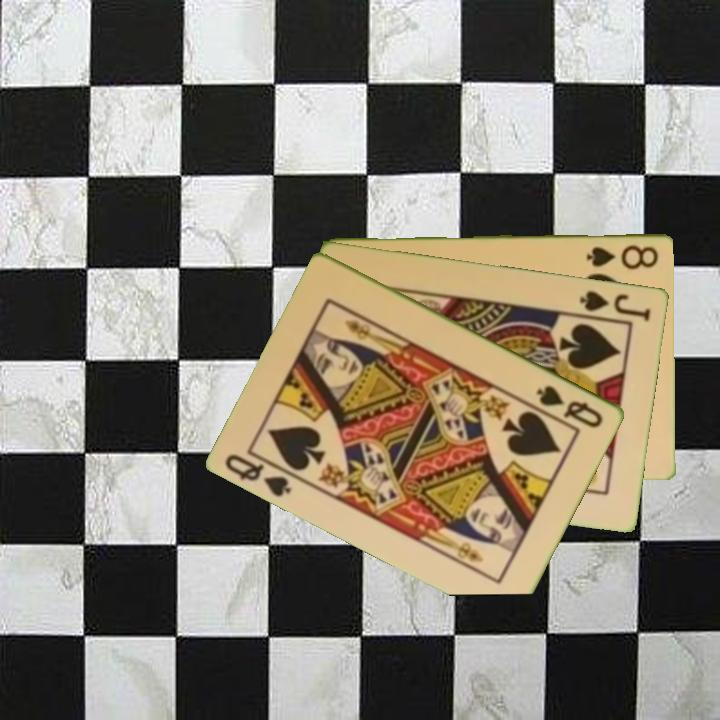8s: (584, 241, 662, 271)
Js: (577, 286, 654, 324)
Qs: (221, 448, 302, 500), (533, 381, 606, 431)
